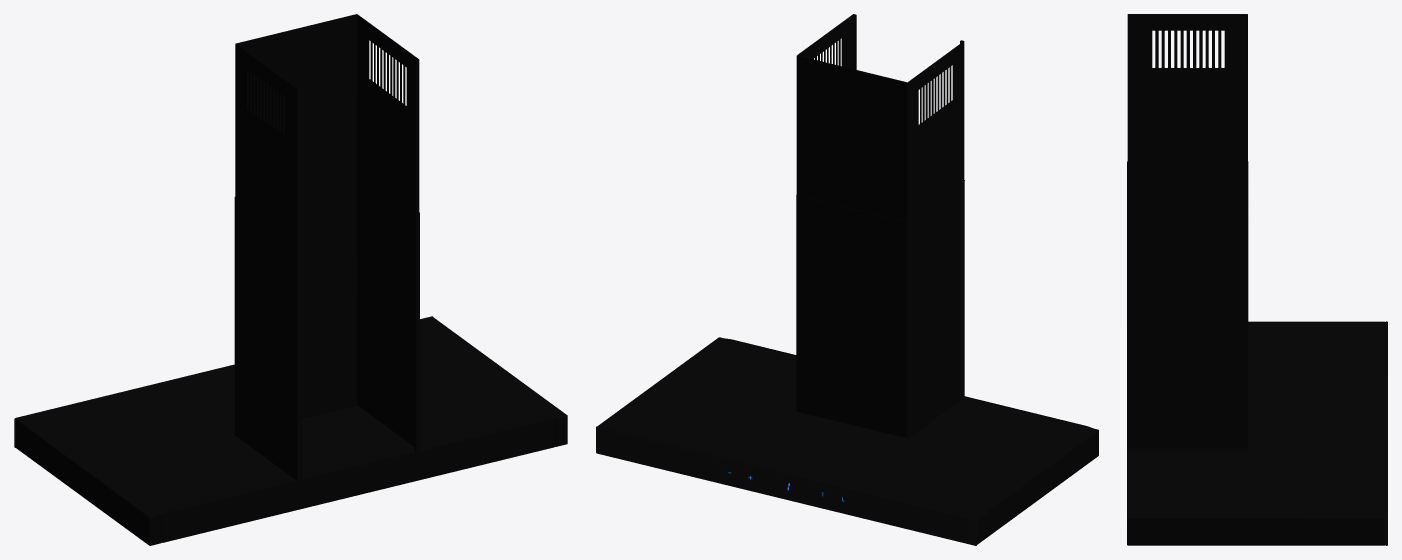
The model's file is extractor_hood_black.glb.
3 renders of one model, left to right at view 1: azimuth 30°, elevation 25°; view 2: azimuth 150°, elevation 25°; view 3: azimuth 270°, elevation 25°, orthographic. The views are drawn at different scales.
Visible parts, largest first — view 1: extractor_hood_black; view 2: extractor_hood_black; view 3: extractor_hood_black.
Boxes of the visible parts, x1,y1,x2,y2 form: extractor_hood_black: (14,14,567,545); extractor_hood_black: (596,14,1098,545); extractor_hood_black: (1127,14,1387,545).
Size of the model in its own units: 0.9 by 0.8703 by 0.5044.
11 materials, 3 textured.
